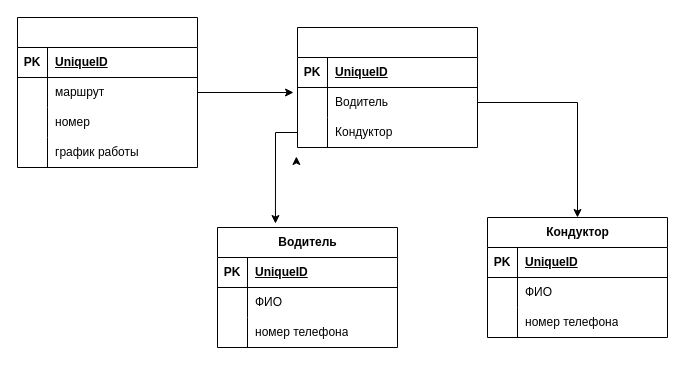
This 685x365 diagram has some shape labels left out. Each missing label, with the box of its shape:
Автобус: (16, 16, 198, 168)
Сотрудники: (296, 26, 478, 148)
